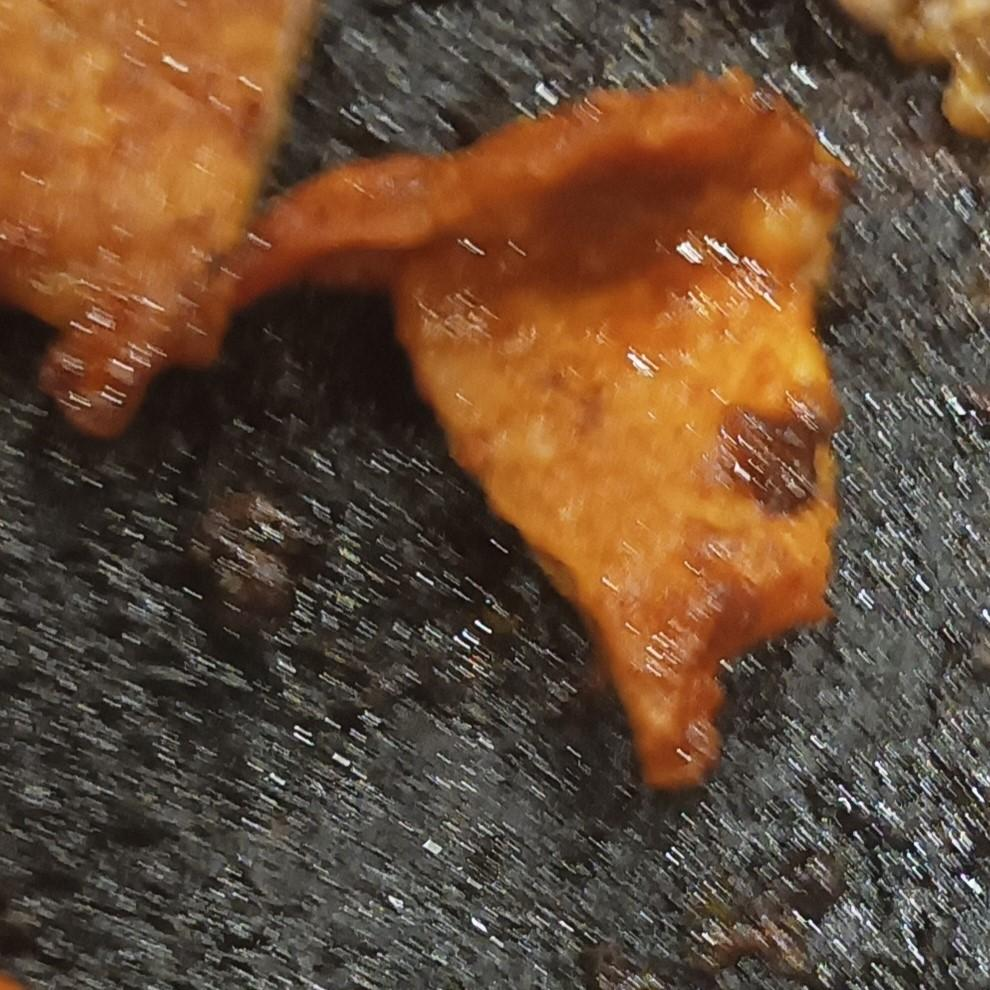Well-Cooked: (0, 0, 858, 798)
